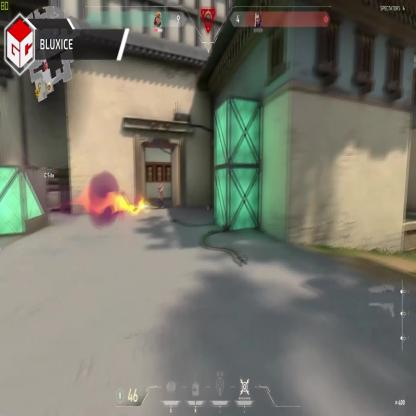enemy: (158, 182, 164, 212)
enemy_head: (159, 183, 162, 188)
